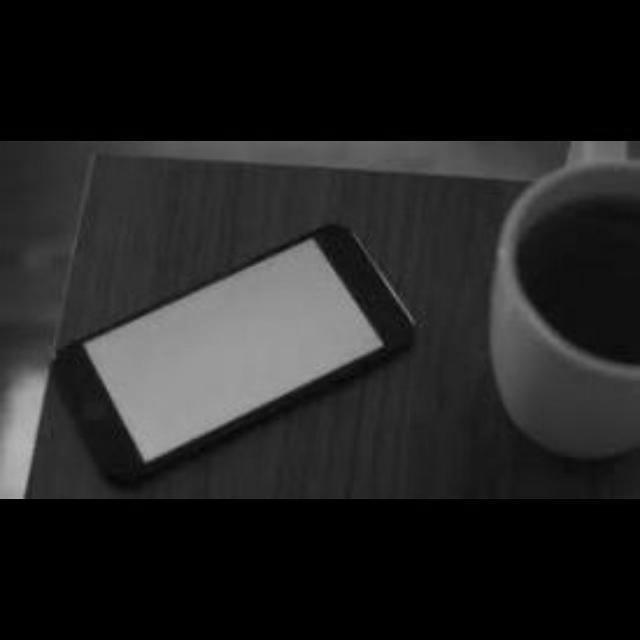fake: (43, 249, 412, 466)
